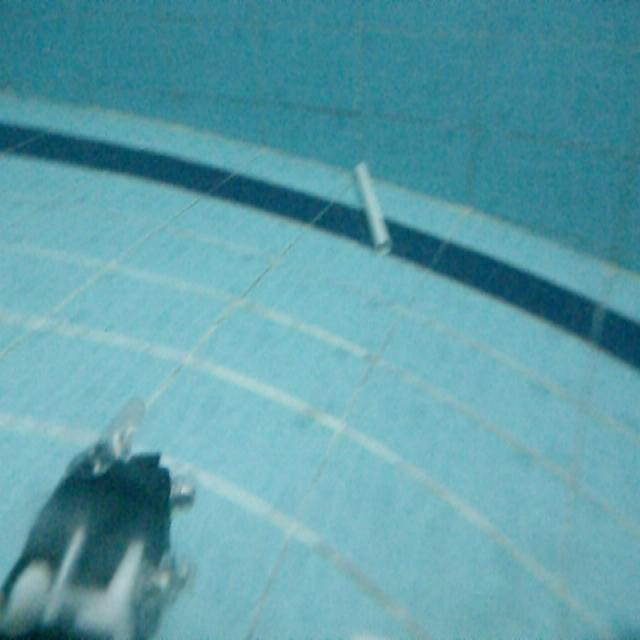Cube: (352, 153, 396, 260)
